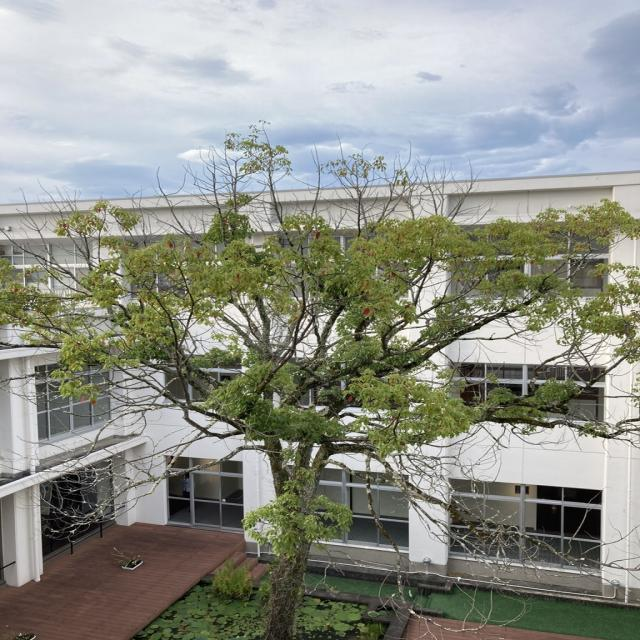camphor: (0, 114, 640, 640)
